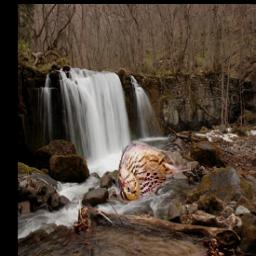Sparrow: (118, 141, 192, 203)
